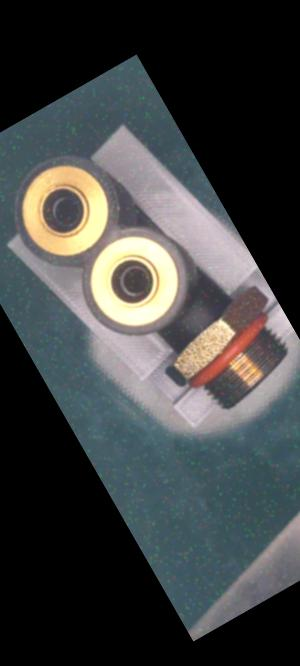white mark: (195, 318, 209, 334)
